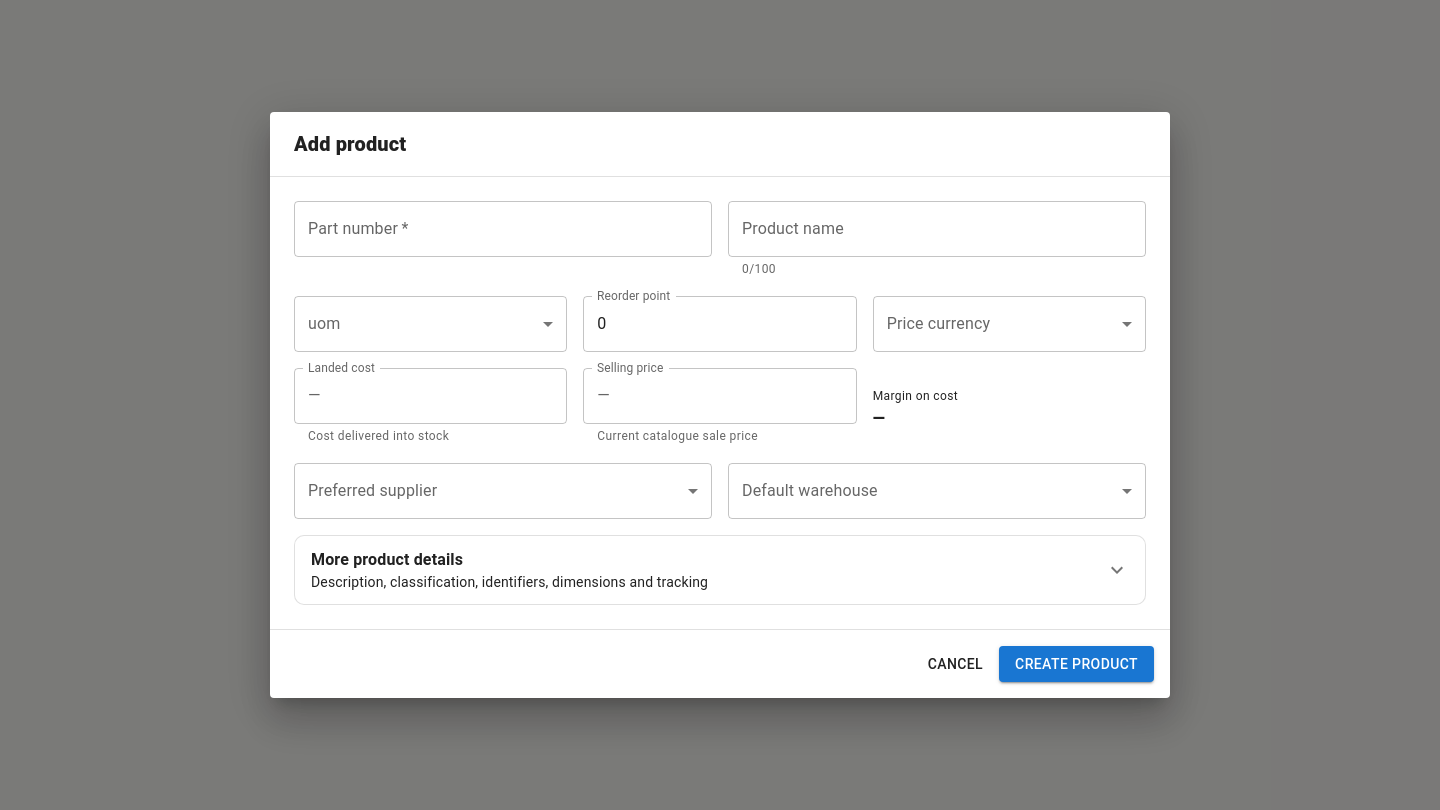
Test: Product name and description carry the server caps at the input › keeps the server sentence as the authority — the cap here does not replace it
In the field labelled "Part number": (503, 229) [294, 201, 712, 257], type "VLV-100"
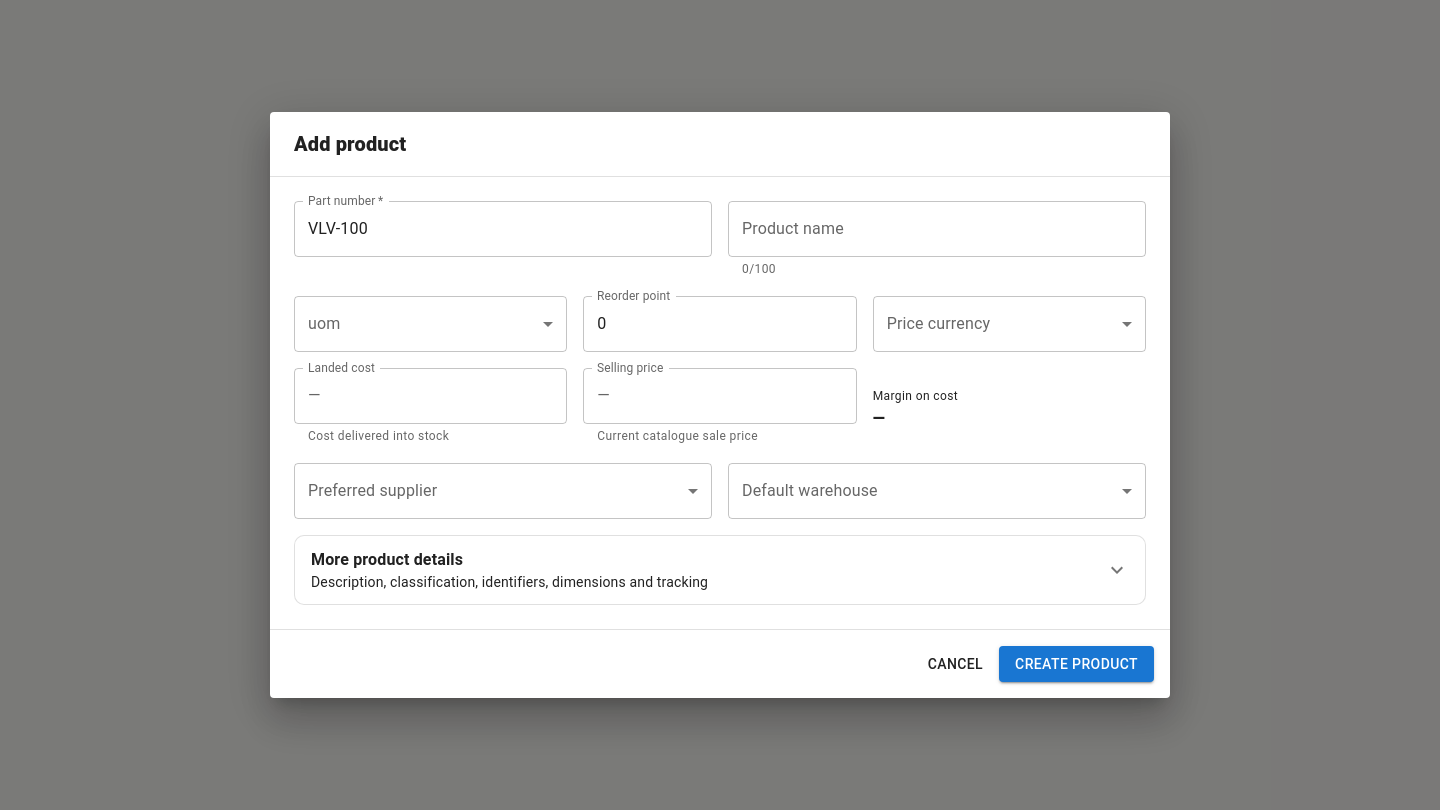
Click the button "Create product": (1077, 664) [999, 646, 1154, 682]
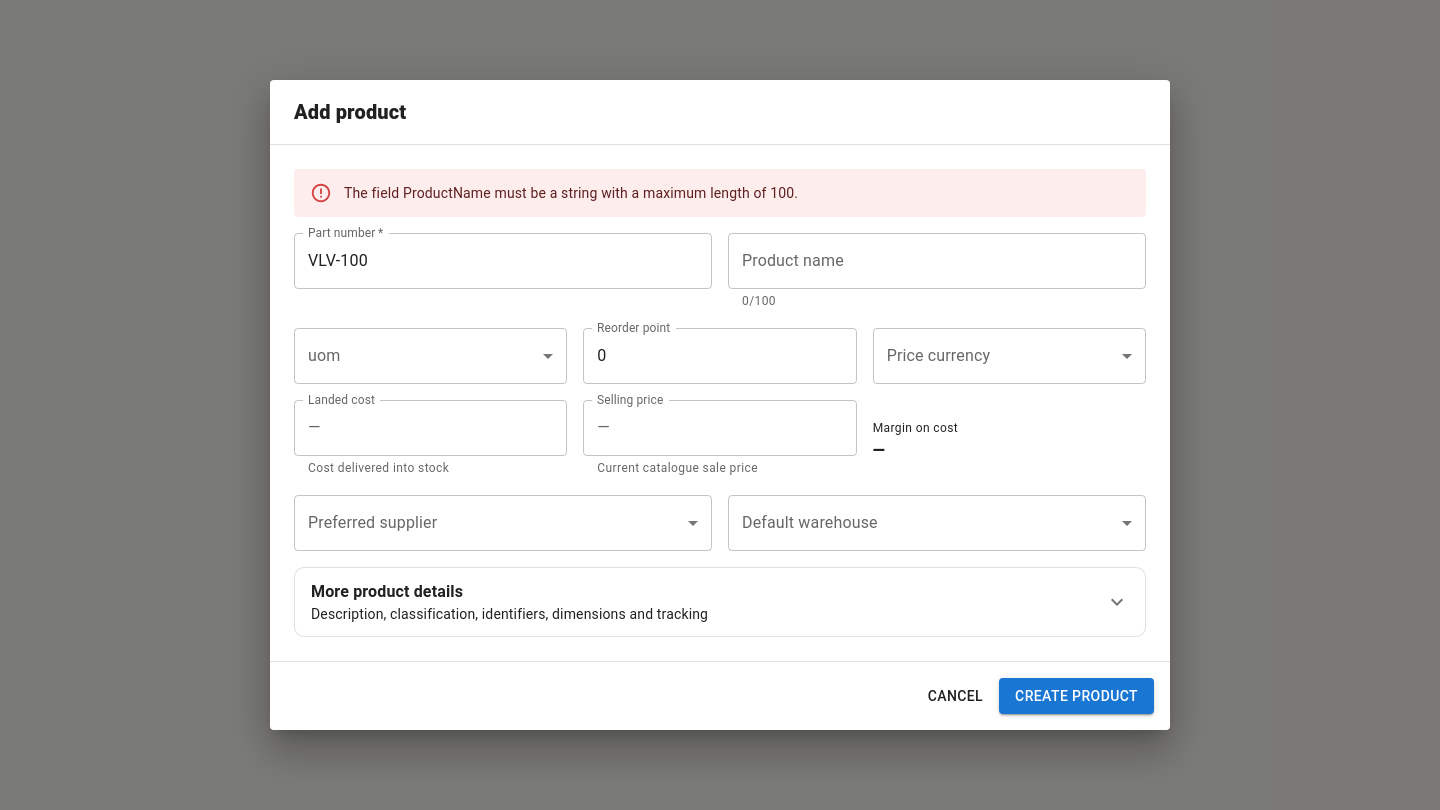
expect the text "The field ProductName must be a string with a maximum length of 100." is shown: met, box [344, 185, 798, 201]
